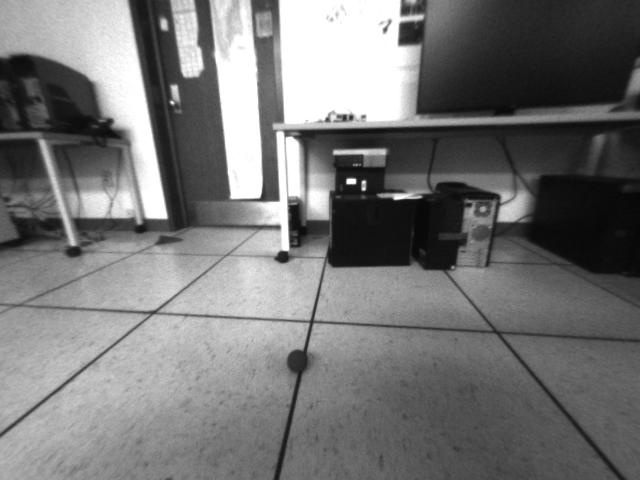dogtoy: (281, 342, 319, 379)
